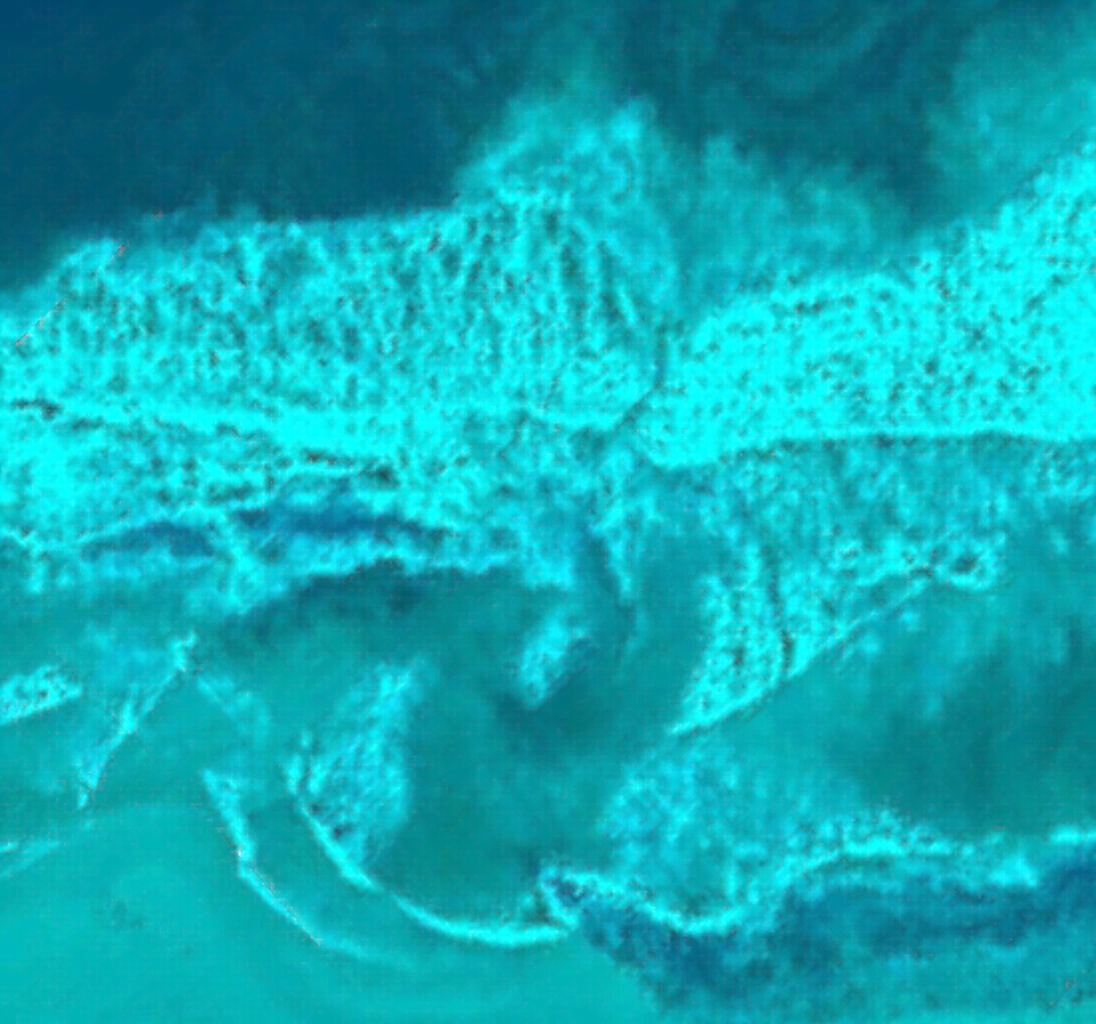rip_current: (432, 54, 754, 915)
